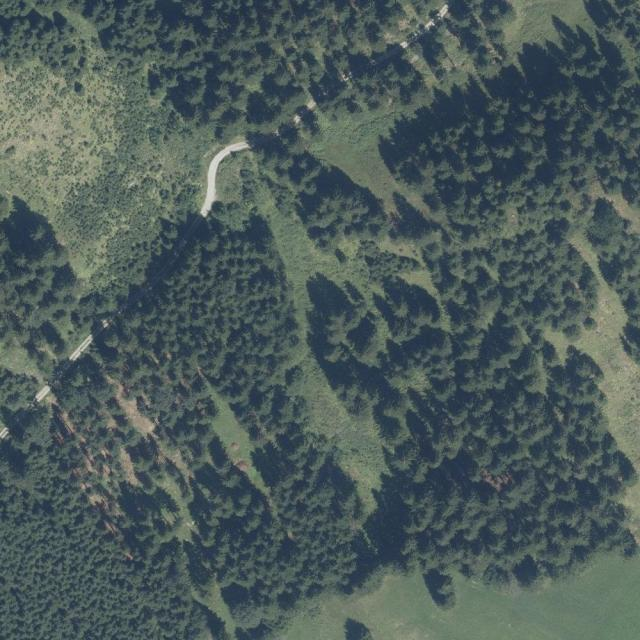greenland: (18, 341, 333, 640), (183, 265, 407, 614), (79, 191, 340, 455), (371, 60, 587, 272), (239, 136, 449, 292), (0, 0, 438, 74), (85, 91, 244, 197), (303, 100, 427, 225), (147, 39, 308, 126), (348, 39, 445, 134), (44, 351, 122, 430), (404, 21, 480, 101), (303, 54, 383, 117), (0, 399, 54, 467)
unmetalled_road: (368, 2, 455, 73), (185, 131, 251, 217), (100, 253, 175, 326), (163, 212, 205, 269), (284, 97, 320, 131), (68, 334, 96, 363), (87, 314, 114, 339), (33, 385, 53, 404), (272, 129, 279, 136)
